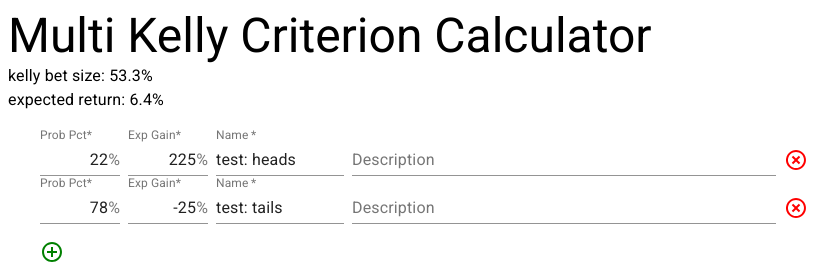
Test: kelly editor › errors › shows both name and percent errors
Clear the 1st field showing "test: heads". click: (280, 160)
box: x1=216 y1=144 x2=344 y2=176
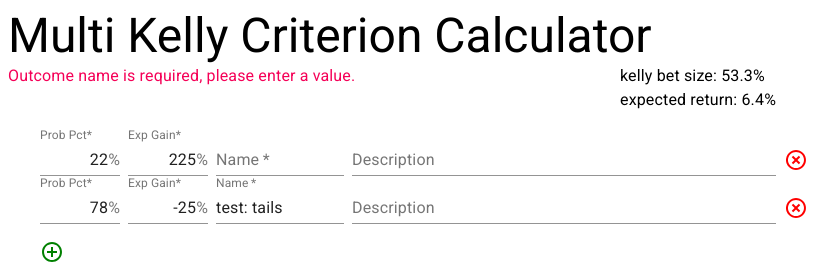
Replace the text in the 1st number field showing "22" with "21". click: (74, 160)
box: x1=40 y1=144 x2=108 y2=176
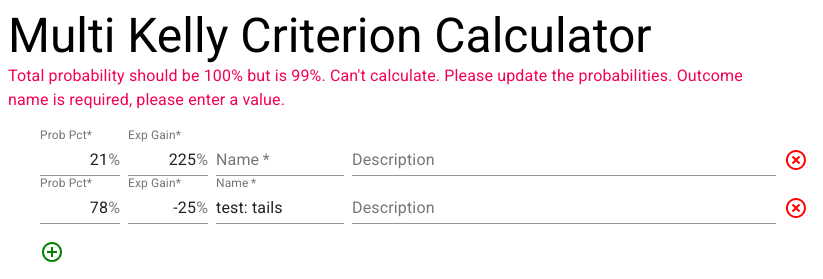
Expected: the text "Total probability should be 100% but is 99%. Can't calculate. Please update the probabilities. Outcome name is required," is shown, x1=8 y1=66 x2=743 y2=109
